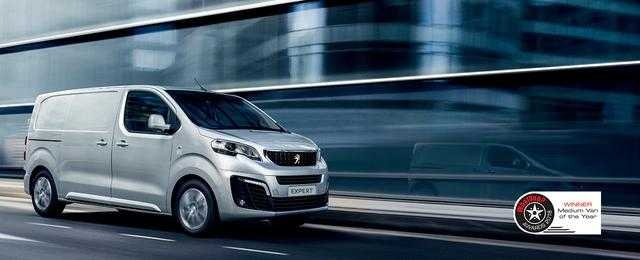van: (23, 84, 329, 237)
